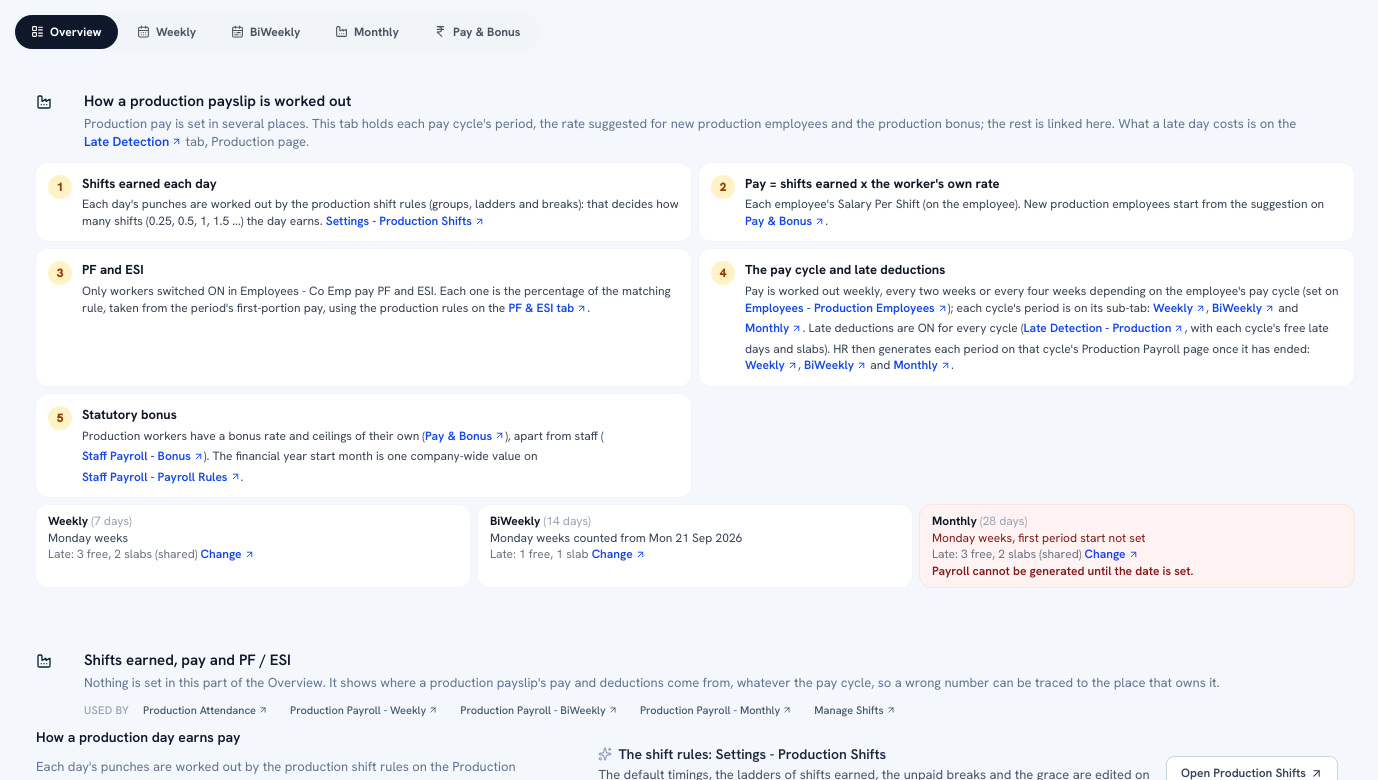
Scenario: Settings -> Production Payroll › Weekly shows the live next period of the cycle, and no late controls (those are on Late Detection)
Click the tab "Weekly" at (166, 32), box [121,15,212,49]
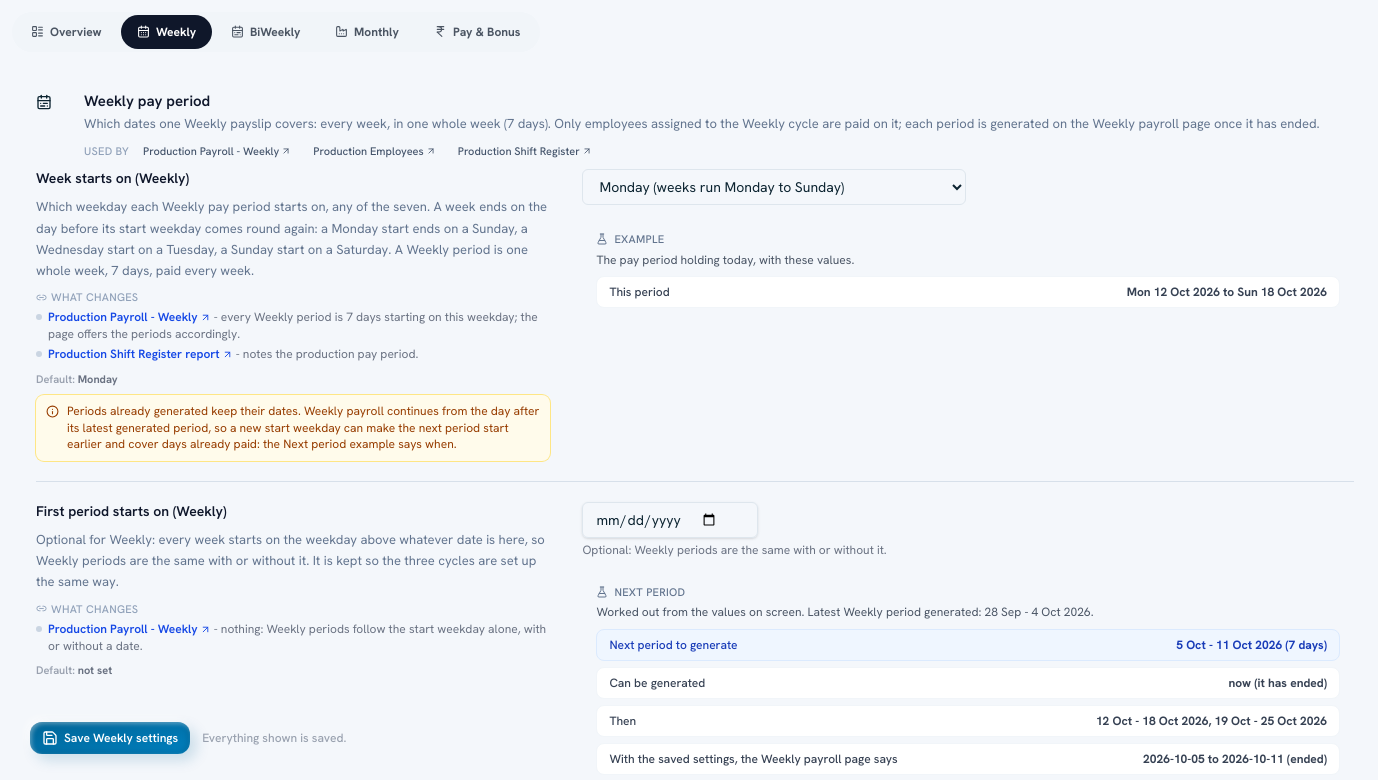
Expected: the element with test id "weekly-next-period-preview" shows "Latest Weekly period generated: 28 Sep - 4 Oct 2026", [596,604,1094,620]
Expected: the element with test id "weekly-next-period-preview" shows "5 Oct - 11 Oct 2026 (7 days)", [1176,637,1327,653]
Expected: the element with test id "weekly-next-period-preview" shows "now (it has ended)", [1228,675,1327,691]
